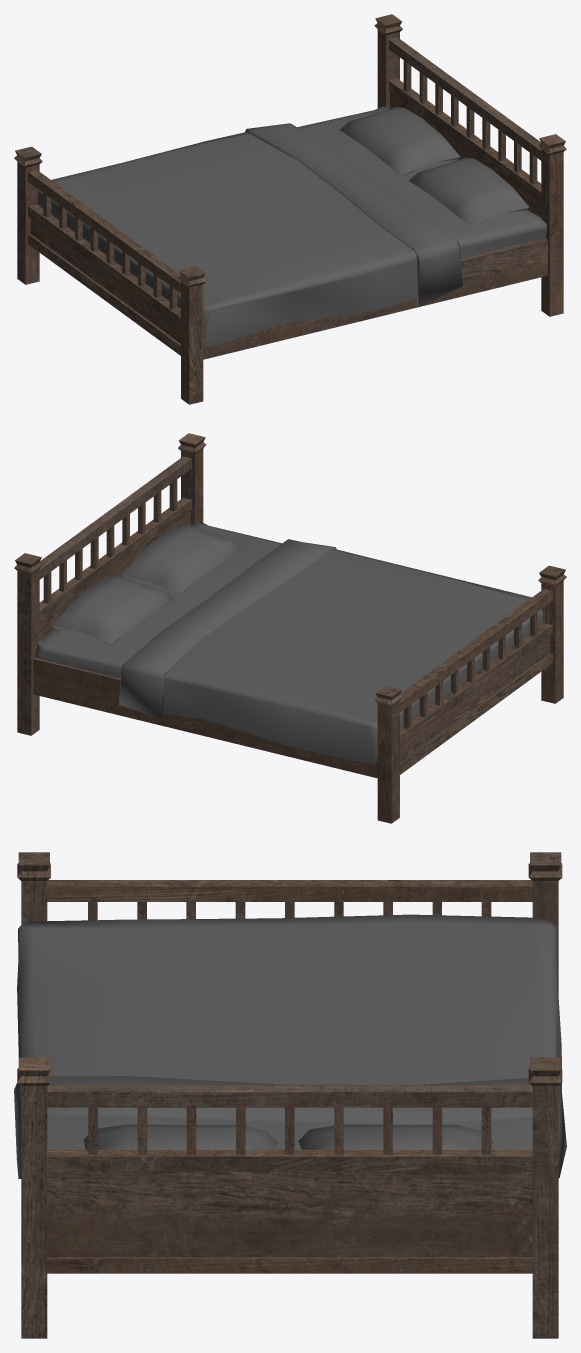
Rendered from mw_bed_large_01.FBX.
3 renders of one model, top to bottom at view 1: azimuth 30°, elevation 25°; view 2: azimuth 150°, elevation 25°; view 3: azimuth 270°, elevation 25°, orthographic. The views are drawn at different scales.
Visible parts, largest first — view 1: mw_bed_large_01; view 2: mw_bed_large_01; view 3: mw_bed_large_01.
Part boxes in pixels (x1,y1,x2,y2): mw_bed_large_01: [14, 14, 566, 404]; mw_bed_large_01: [14, 433, 566, 823]; mw_bed_large_01: [14, 852, 566, 1338].
Size of the model in its own units: 285 by 124 by 231.
